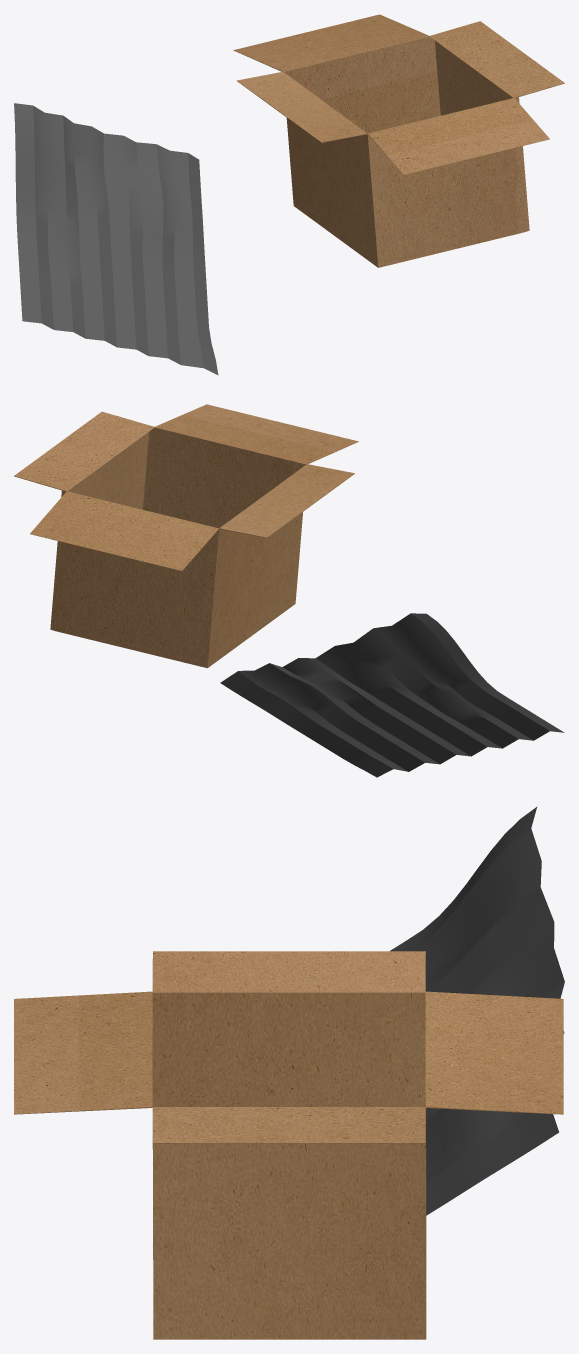
File: cardboard.fbx
The picture shows the model from 3 angles, top to bottom: view 1: azimuth 30°, elevation 25°; view 2: azimuth 150°, elevation 25°; view 3: azimuth 270°, elevation 25°; orthographic projection. The views are drawn at different scales.
Visible parts, largest first — view 1: Cube.014, Plane.001; view 2: Cube.014, Plane.001; view 3: Cube.014, Plane.001.
Part boxes in pixels (box(x1,y1,x2,y2)): Cube.014: box(233, 14, 564, 267); Plane.001: box(14, 103, 218, 375); Cube.014: box(14, 404, 358, 668); Plane.001: box(220, 613, 564, 777); Cube.014: box(14, 951, 563, 1339); Plane.001: box(389, 807, 564, 1215).
Size of the model in its own units: 481 by 230 by 288.
